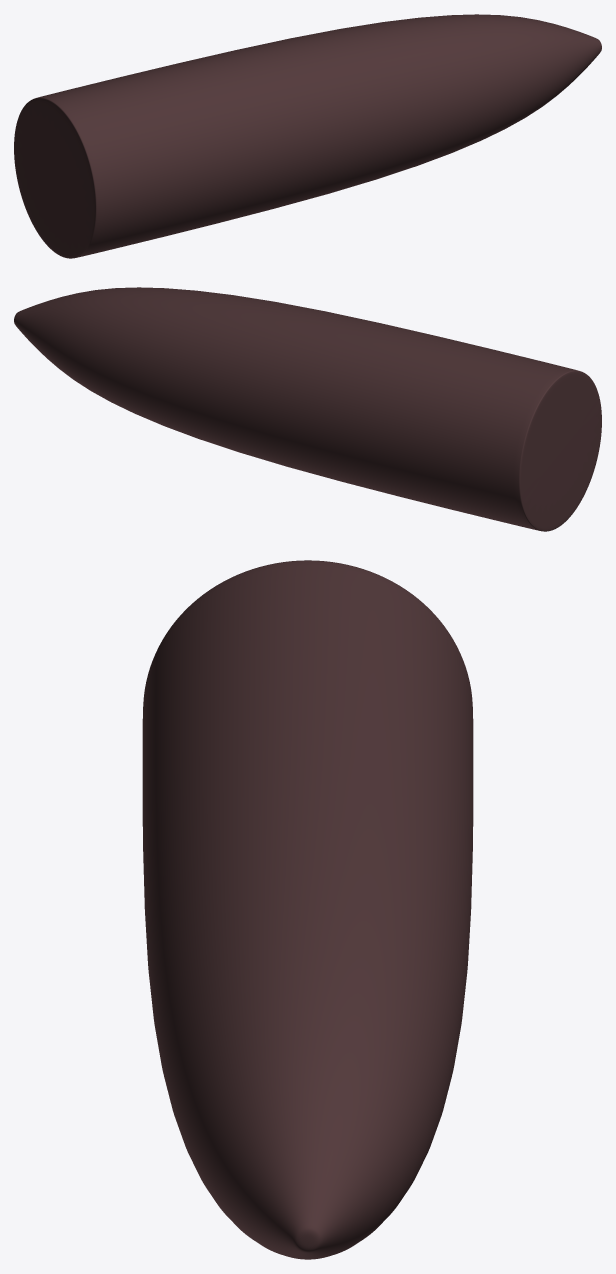
The model's file is MP7_Bullet.fbx.
The picture shows the model from 3 angles, top to bottom: view 1: azimuth 30°, elevation 25°; view 2: azimuth 150°, elevation 25°; view 3: azimuth 270°, elevation 25°; orthographic projection. The views are drawn at different scales.
Visible parts, largest first — view 1: Bullet; view 2: Bullet; view 3: Bullet.
Part boxes in pixels (x1,y1,x2,y2): Bullet: (14, 14, 601, 258); Bullet: (14, 287, 601, 531); Bullet: (142, 560, 473, 1259).
Bounding box in the file's own units: 9.51 × 2.5 × 2.5.
